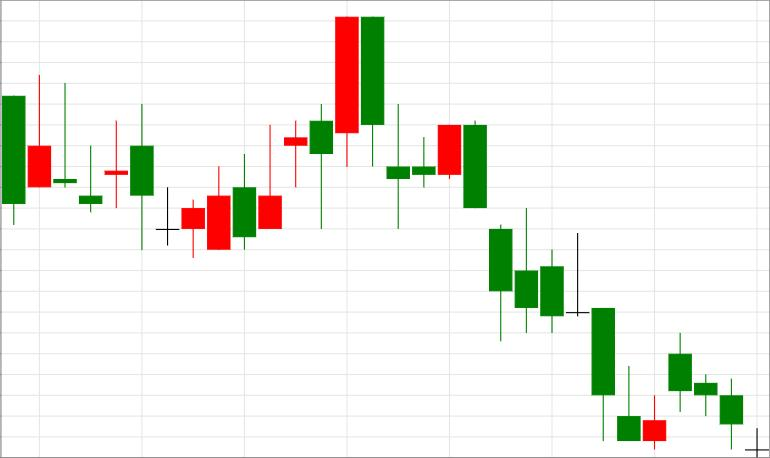inverse_hammer_rise: (464, 120, 641, 441)
